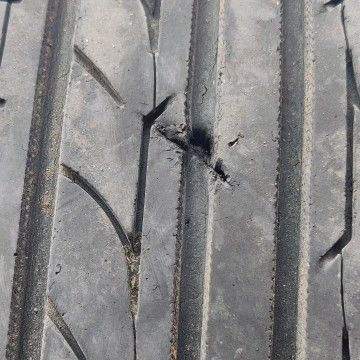tr: (154, 122, 235, 187)
